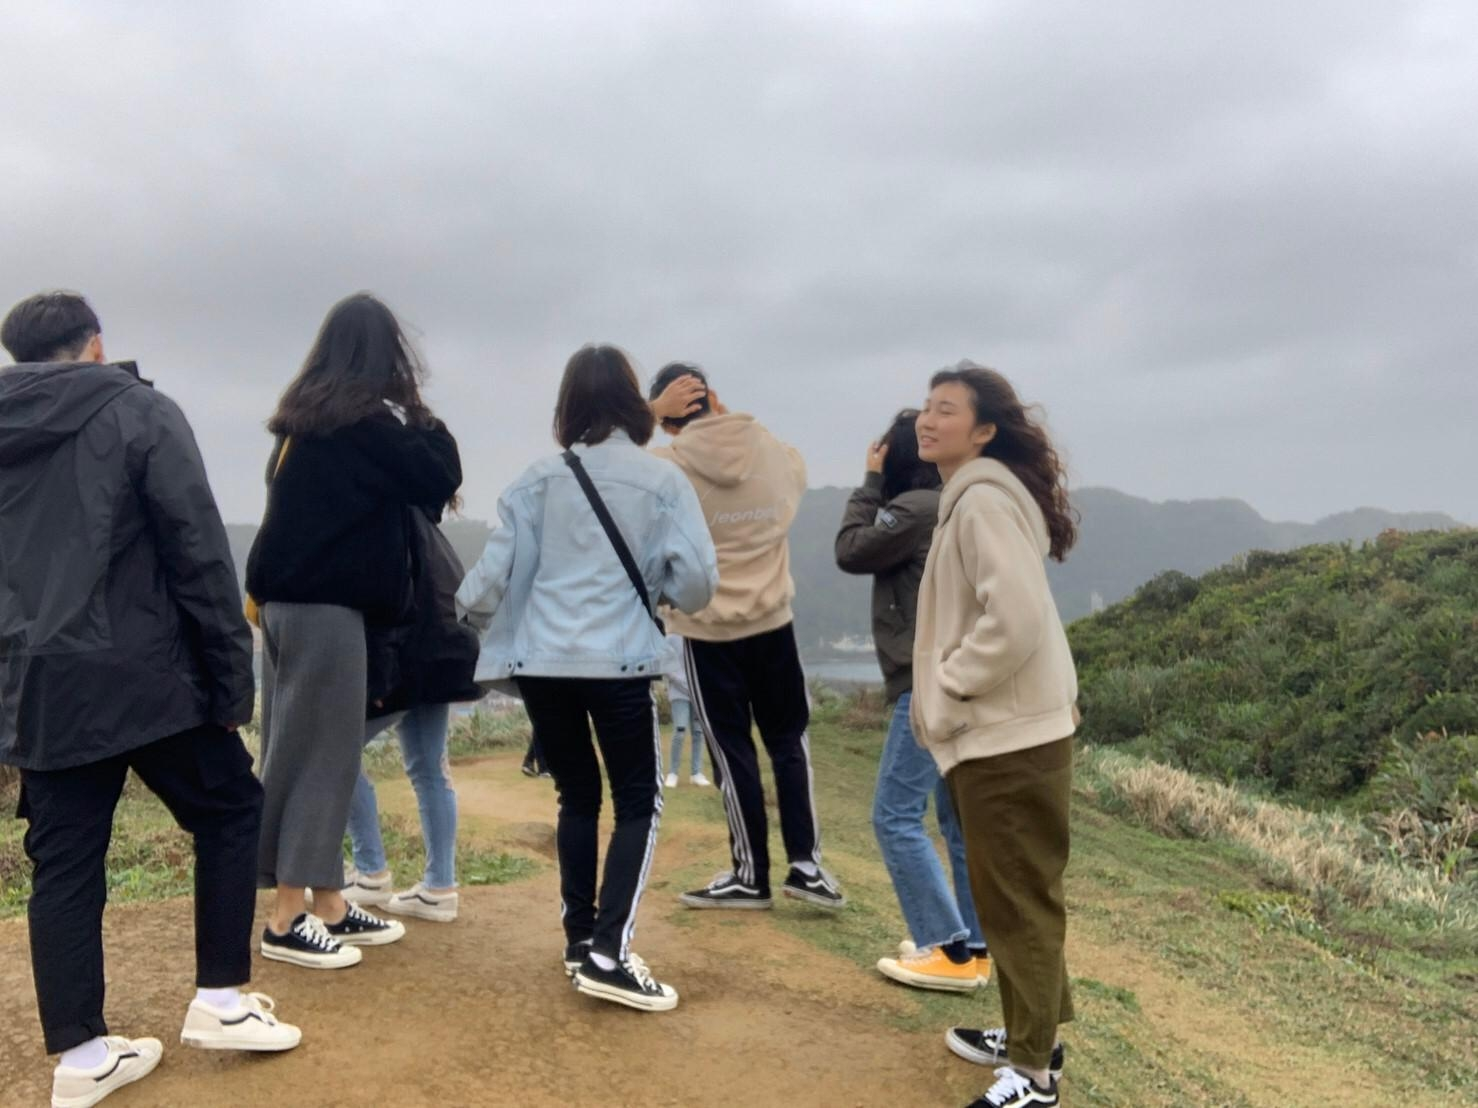people: (2, 294, 273, 1084), (925, 369, 1077, 1108), (650, 361, 850, 919), (521, 359, 671, 1025), (265, 298, 402, 975), (863, 423, 1002, 994), (340, 380, 469, 925)
